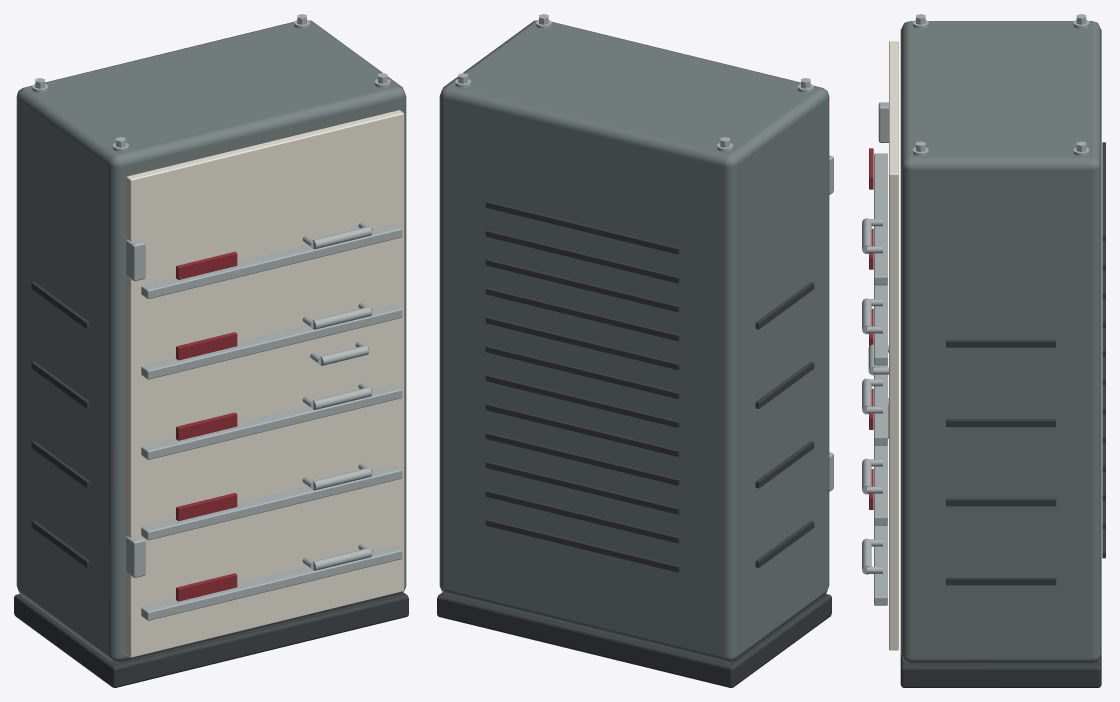
The model's file is pneumatic-tube-mail-exchange-pneumatic-tube-mail-excha-75a43c24__32325.glb.
The picture shows the model from 3 angles, left to right: view 1: azimuth 30°, elevation 25°; view 2: azimuth 150°, elevation 25°; view 3: azimuth 270°, elevation 25°; orthographic projection.
Visible parts, largest first — view 1: pneumatic-tube-mail-exchange-service-parts-cabinet; view 2: pneumatic-tube-mail-exchange-service-parts-cabinet; view 3: pneumatic-tube-mail-exchange-service-parts-cabinet.
Boxes of the visible parts, <box> form: pneumatic-tube-mail-exchange-service-parts-cabinet: <box>14,14,408,687</box>; pneumatic-tube-mail-exchange-service-parts-cabinet: <box>437,14,833,687</box>; pneumatic-tube-mail-exchange-service-parts-cabinet: <box>862,14,1105,687</box>.
Bounding box in the file's own units: 0.872 × 1.48 × 0.6065.
